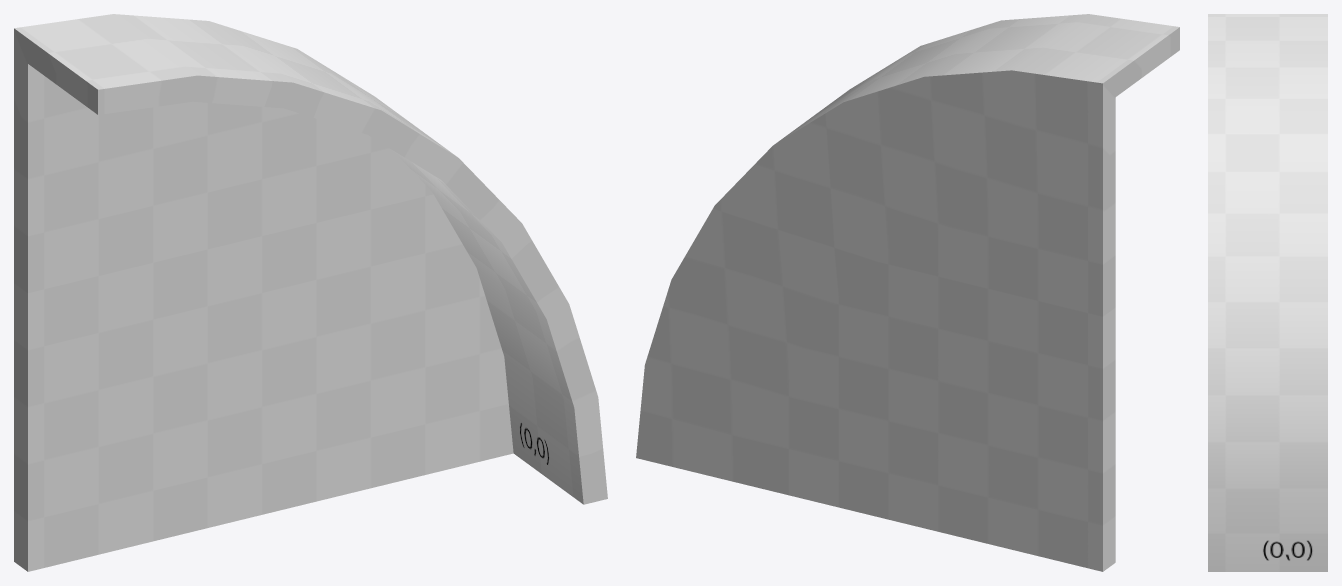
The model's file is enginehall_end_topright.fbx.
3 renders of one model, left to right at view 1: azimuth 30°, elevation 25°; view 2: azimuth 150°, elevation 25°; view 3: azimuth 270°, elevation 25°, orthographic. The views are drawn at different scales.
Visible parts, largest first — view 1: enginehall_end_topright; view 2: enginehall_end_topright; view 3: enginehall_end_topright.
Part boxes in pixels (left/top/right/bottom): enginehall_end_topright: left=14, top=14, right=607, bottom=571; enginehall_end_topright: left=636, top=14, right=1179, bottom=571; enginehall_end_topright: left=1208, top=14, right=1327, bottom=571.
Bounding box in the file's own units: 420 × 420 × 120.
